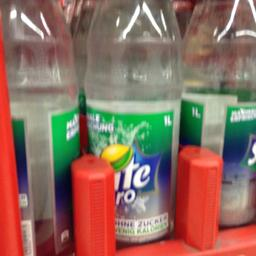soda: (83, 0, 184, 245), (0, 0, 79, 253), (182, 0, 255, 227)
